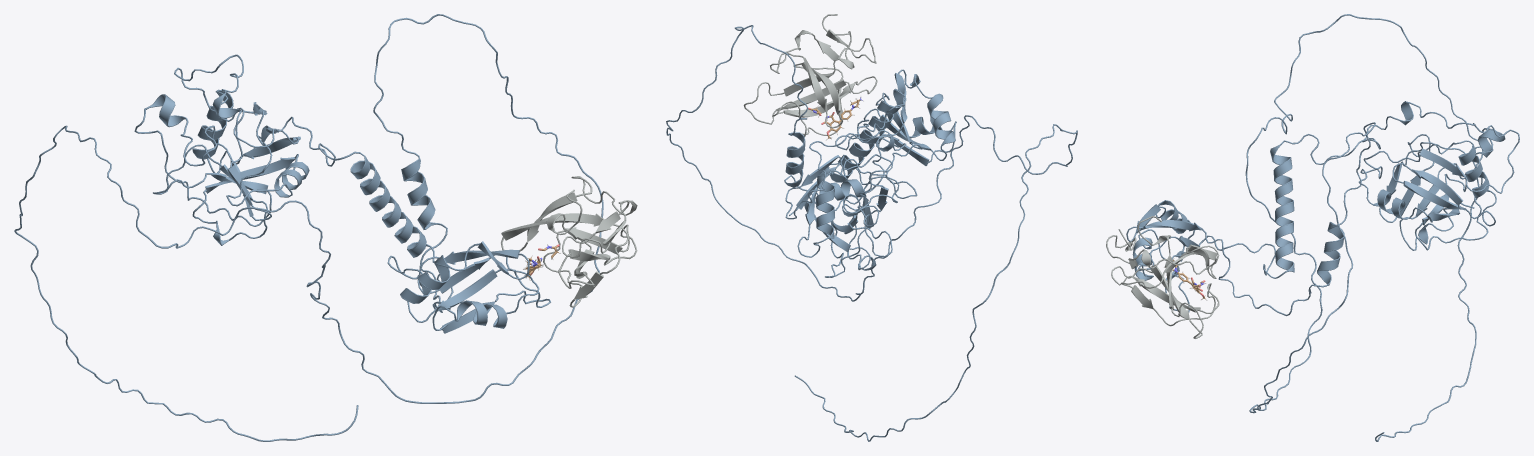
3 views of the same model, side by side, from view 1: azimuth 30°, elevation 25°; view 2: azimuth 150°, elevation 25°; view 3: azimuth 270°, elevation 25° (orthographic). The views are drawn at different scales.
Parts seen in each view (by area): view 1: node-geom97, node-geom98; view 2: node-geom97, node-geom98; view 3: node-geom97, node-geom98.
Boxes of the visible parts, x1,y1,x2,y2 form: node-geom97: (134, 54, 637, 307); node-geom98: (14, 14, 603, 441); node-geom97: (743, 14, 917, 277); node-geom98: (666, 25, 1077, 441); node-geom97: (1106, 101, 1519, 338); node-geom98: (1126, 14, 1483, 441).
Size of the model in its own units: 127 by 102 by 108.
